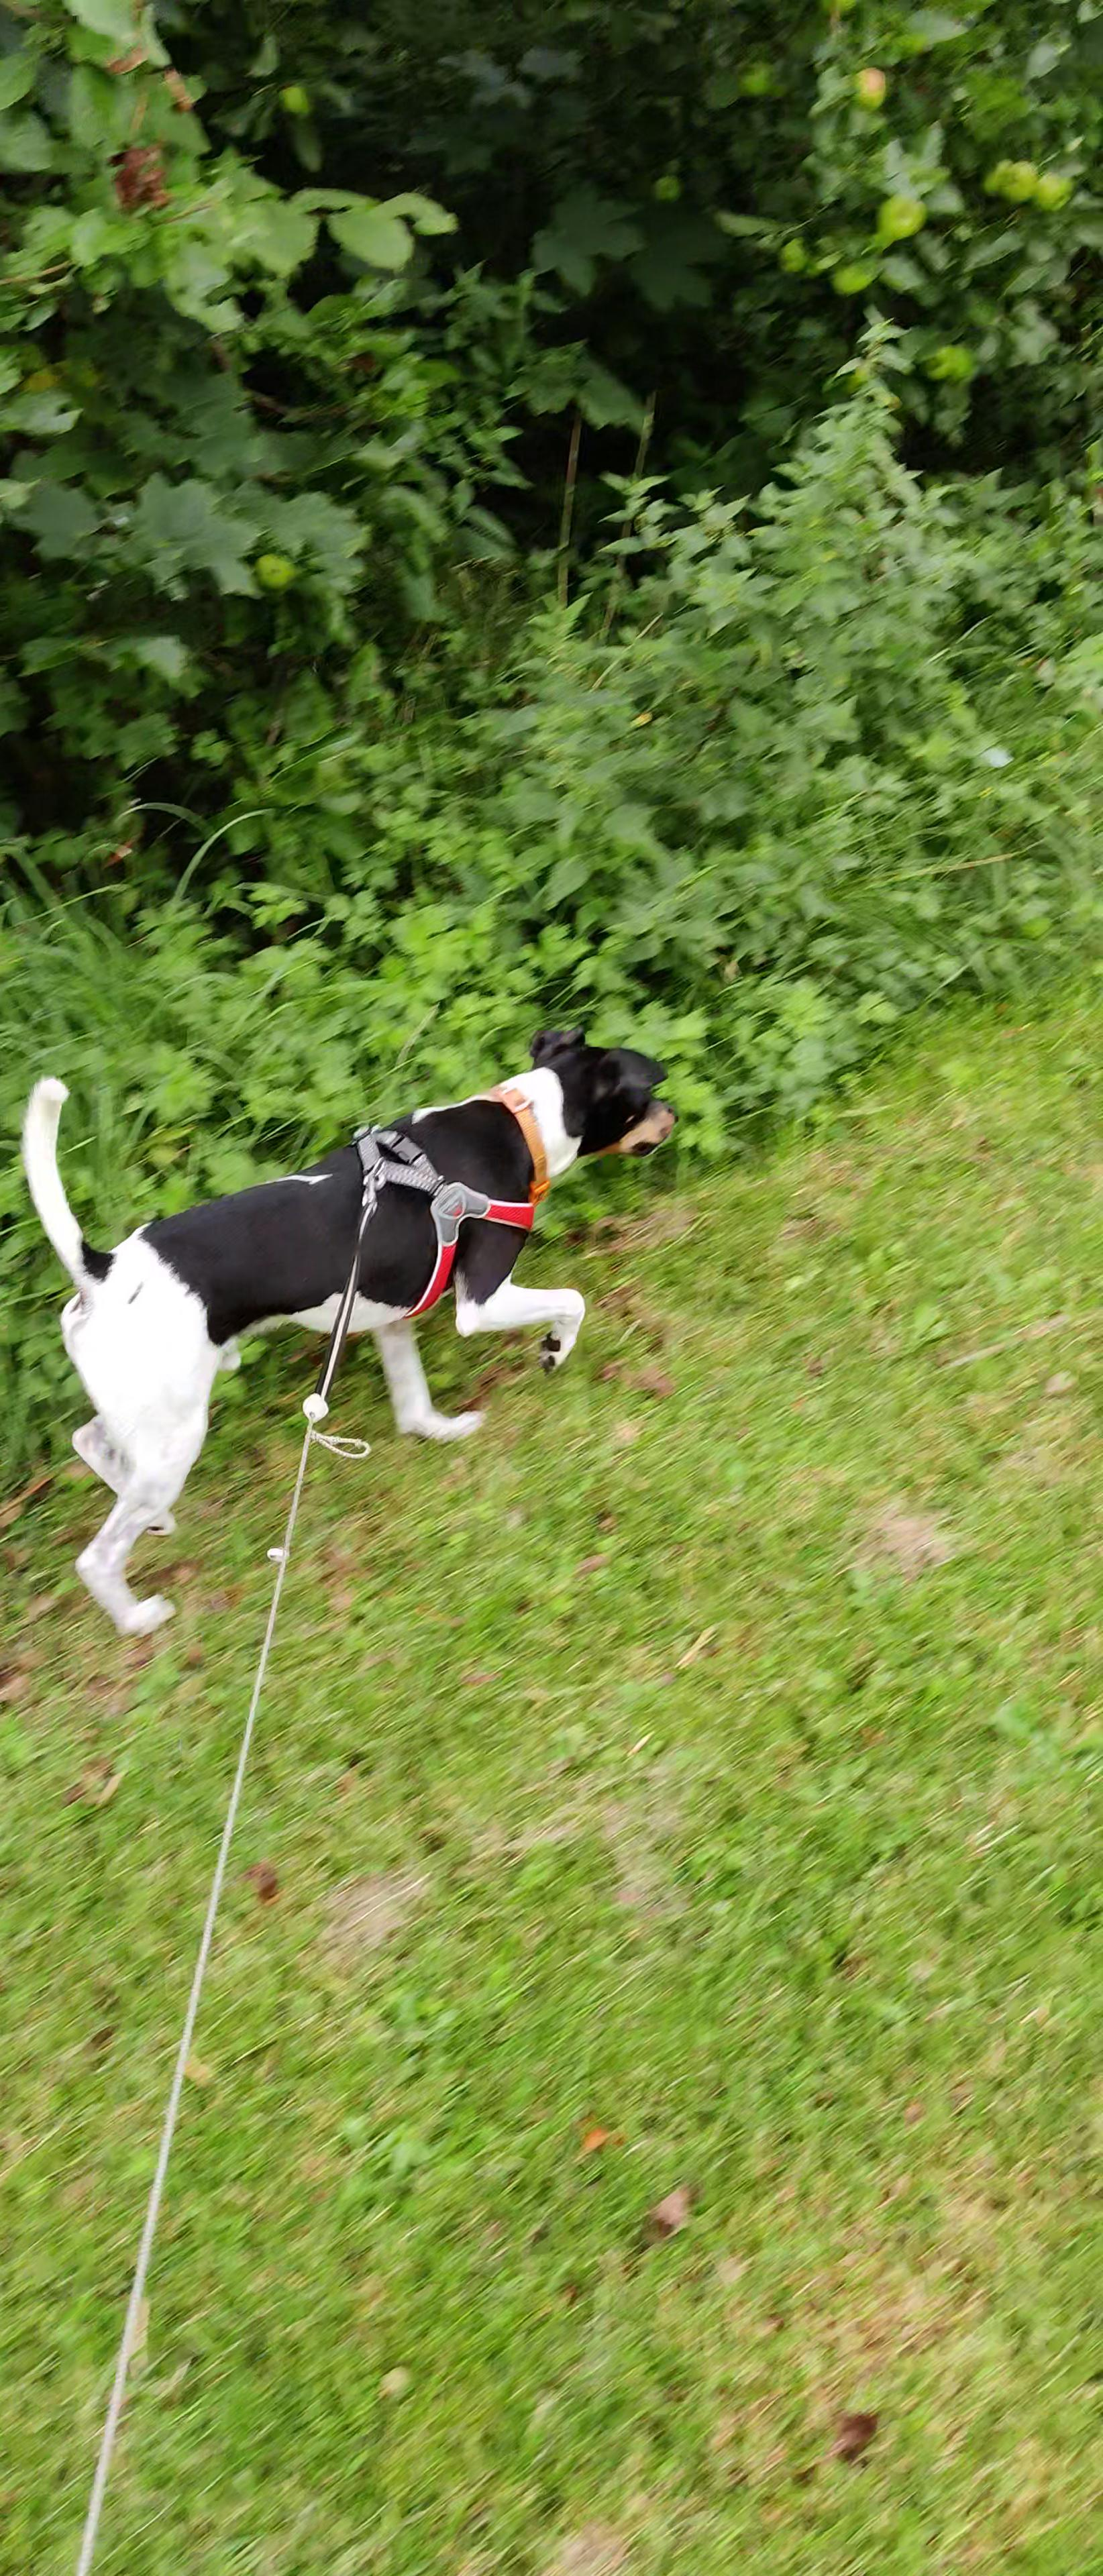Dog: (18, 1020, 681, 1644)
